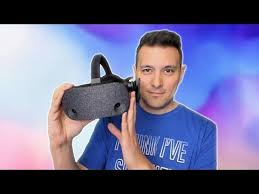oculus: (63, 81, 132, 123)
